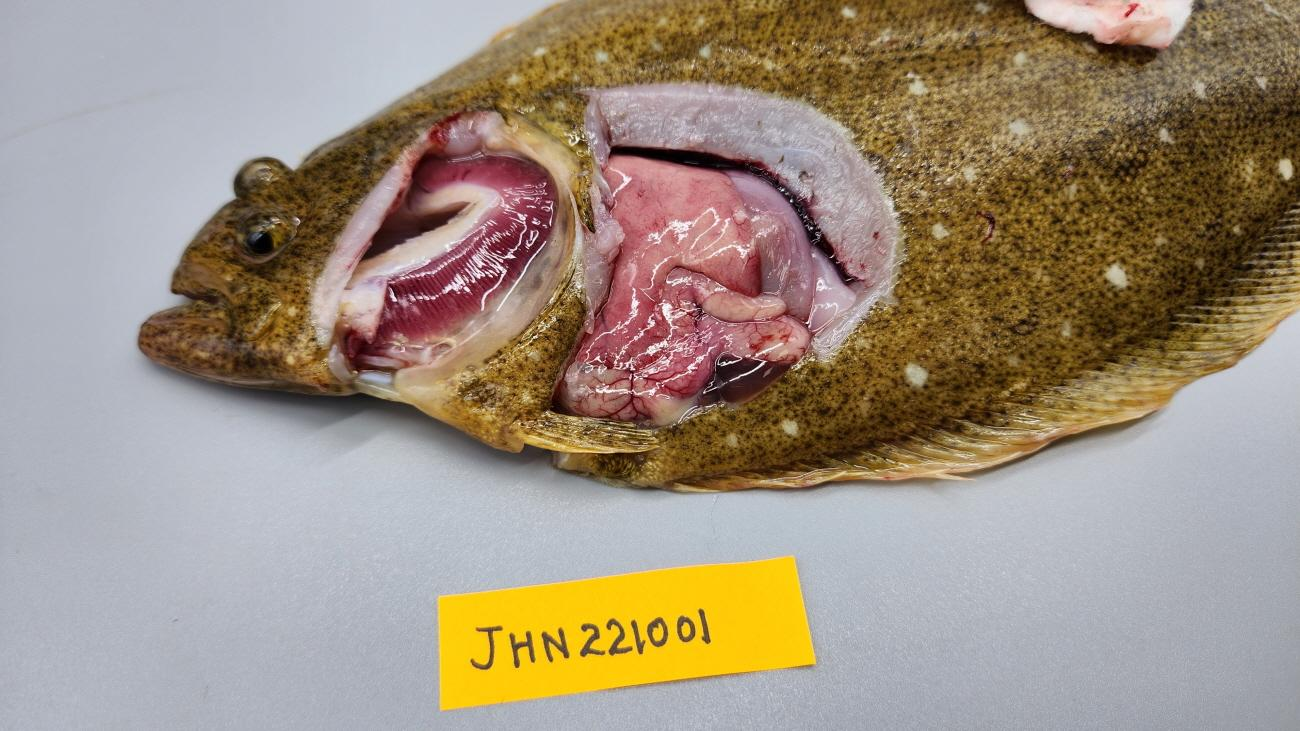POGIN: (367, 154, 550, 355)
POLIN: (574, 153, 771, 368)
